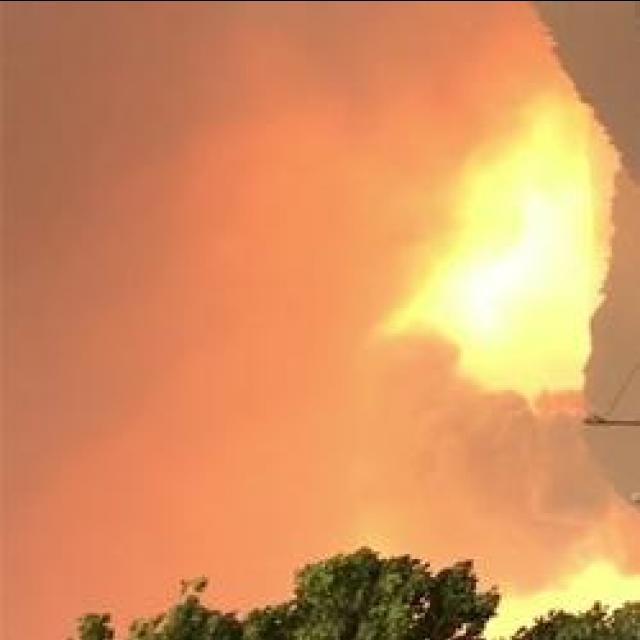fire: (453, 145, 595, 383)
smoke: (418, 365, 554, 549)
